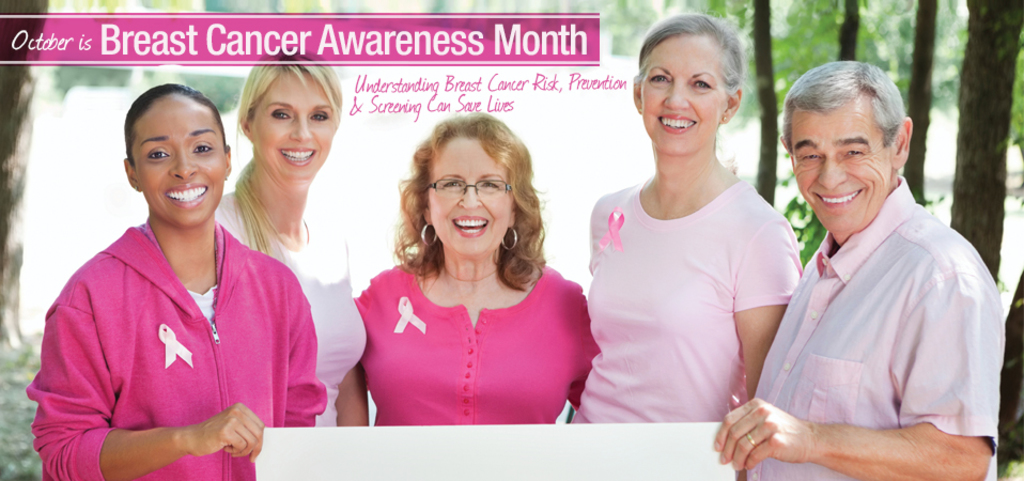Person: (24, 10, 1008, 480)
